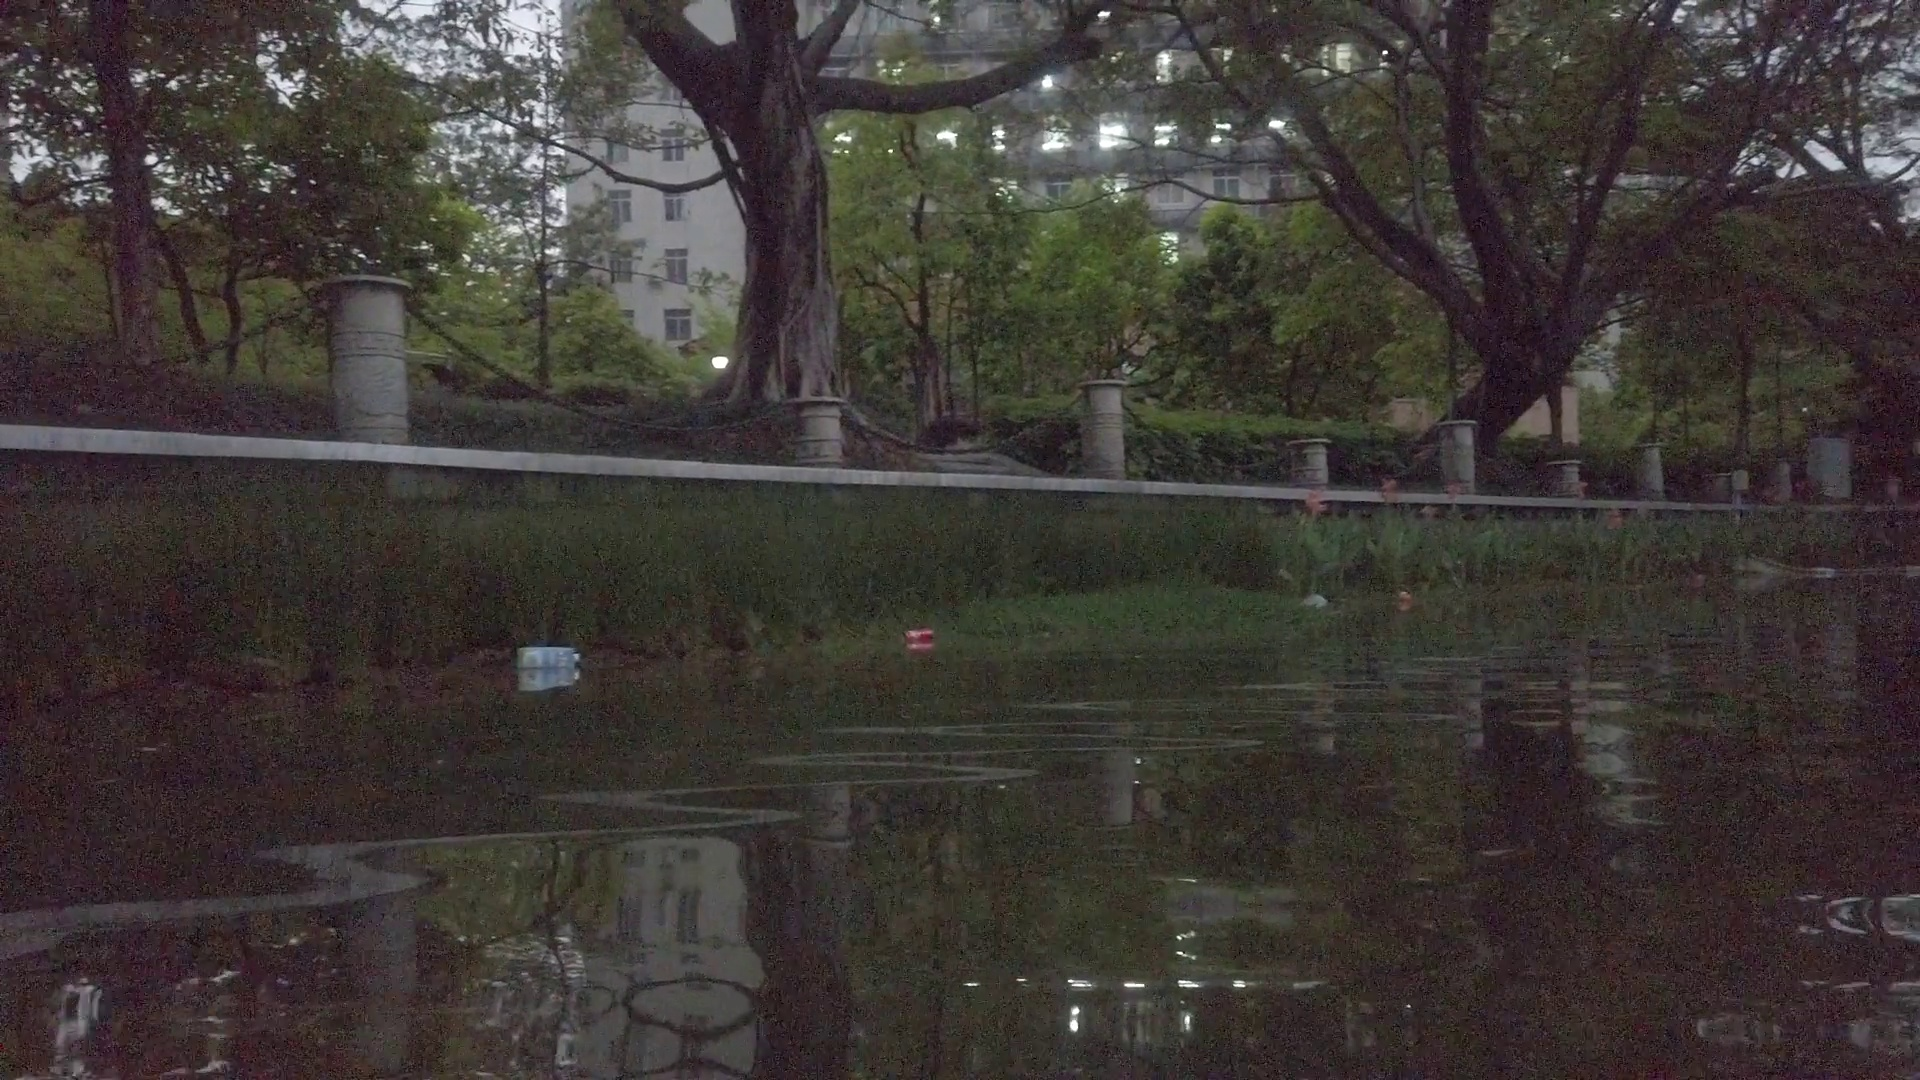bottle: (1291, 589, 1329, 624), (1679, 571, 1716, 589), (899, 629, 938, 645), (1394, 589, 1418, 615), (1811, 564, 1838, 578), (1900, 560, 1919, 579)
carton: (520, 646, 582, 669)
